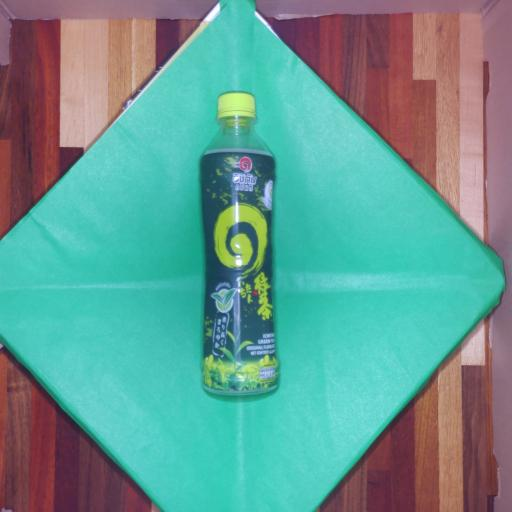bottle: (198, 87, 282, 399)
